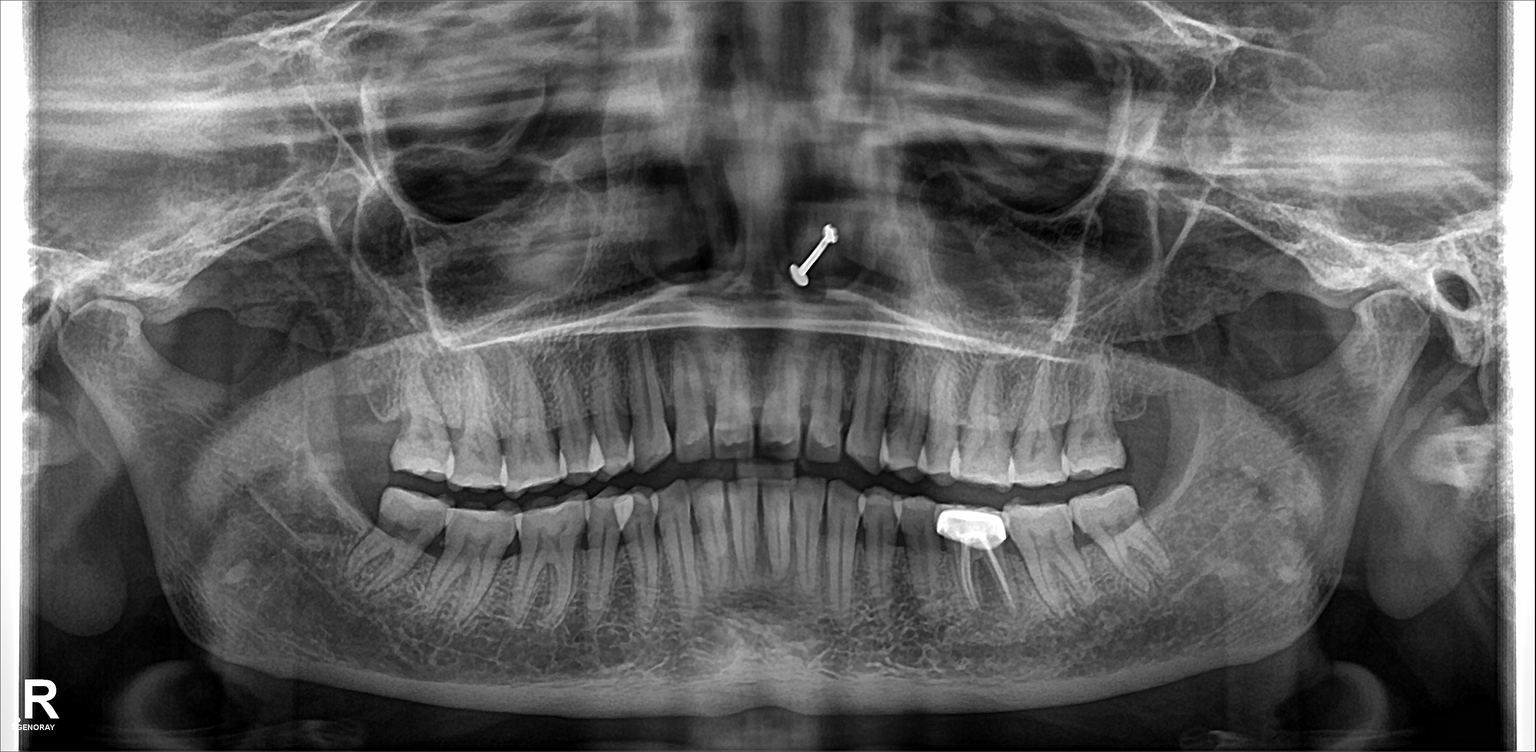Endodontically Treated Tooth: (939, 503, 1007, 612)
Missing Tooth: (335, 374, 398, 471), (1108, 363, 1167, 465), (313, 475, 374, 551)
